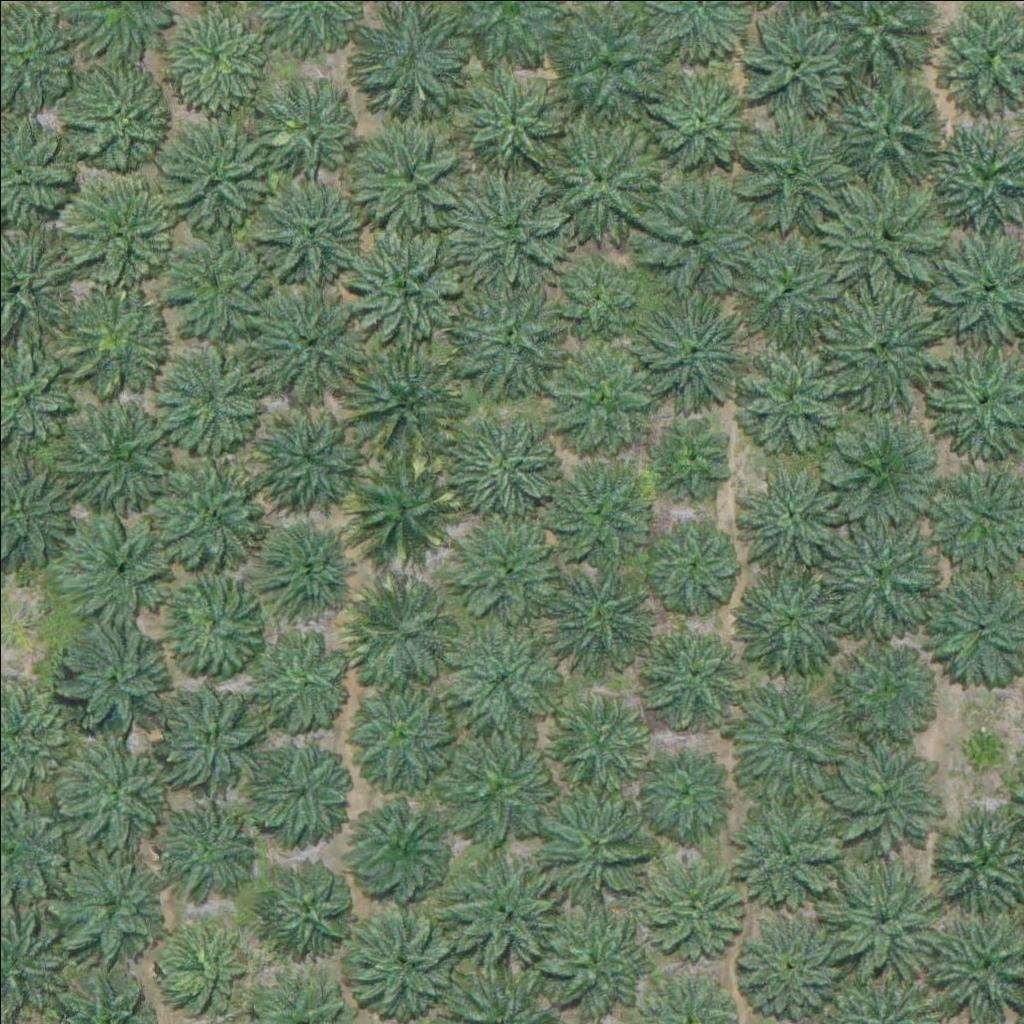Kelapa_Sawit: (815, 505, 940, 631), (822, 284, 947, 410), (826, 169, 951, 295), (530, 113, 655, 239), (444, 266, 569, 392), (451, 403, 564, 517), (540, 560, 653, 674), (733, 230, 846, 344), (736, 337, 849, 451), (541, 904, 654, 1017), (60, 391, 173, 504), (155, 682, 268, 795), (154, 453, 267, 566), (538, 789, 651, 902), (825, 410, 938, 523), (737, 6, 850, 119), (740, 110, 853, 223), (450, 174, 563, 287), (353, 117, 466, 230), (348, 221, 461, 334), (738, 904, 850, 1018), (734, 798, 846, 912), (733, 680, 845, 794), (825, 859, 937, 973), (827, 734, 939, 848), (642, 289, 754, 403), (640, 175, 752, 289), (351, 906, 463, 1019), (60, 505, 172, 618), (58, 622, 170, 735), (58, 730, 170, 843), (54, 848, 166, 961), (250, 394, 362, 507), (344, 675, 456, 788), (348, 575, 460, 688), (343, 450, 455, 563), (447, 620, 559, 733), (442, 722, 554, 835), (443, 856, 555, 969), (736, 566, 848, 679), (830, 68, 942, 181), (348, 345, 460, 458), (253, 285, 365, 398), (257, 176, 369, 289), (158, 113, 270, 226), (161, 574, 261, 675), (256, 515, 356, 616), (253, 629, 353, 730), (249, 735, 349, 836), (251, 856, 351, 957), (346, 795, 446, 896), (646, 850, 746, 951), (739, 464, 839, 565), (834, 640, 934, 741), (552, 340, 652, 441), (259, 84, 359, 185), (171, 241, 271, 342), (161, 350, 261, 451), (61, 292, 161, 393), (69, 175, 169, 276), (66, 66, 166, 167), (455, 522, 555, 622), (549, 684, 649, 784), (547, 462, 647, 562), (653, 71, 753, 171), (460, 75, 560, 175), (648, 518, 736, 606), (646, 623, 734, 711), (160, 920, 247, 1008), (161, 807, 248, 895), (639, 743, 726, 831), (658, 415, 733, 491), (556, 256, 631, 332), (958, 720, 1008, 770)
